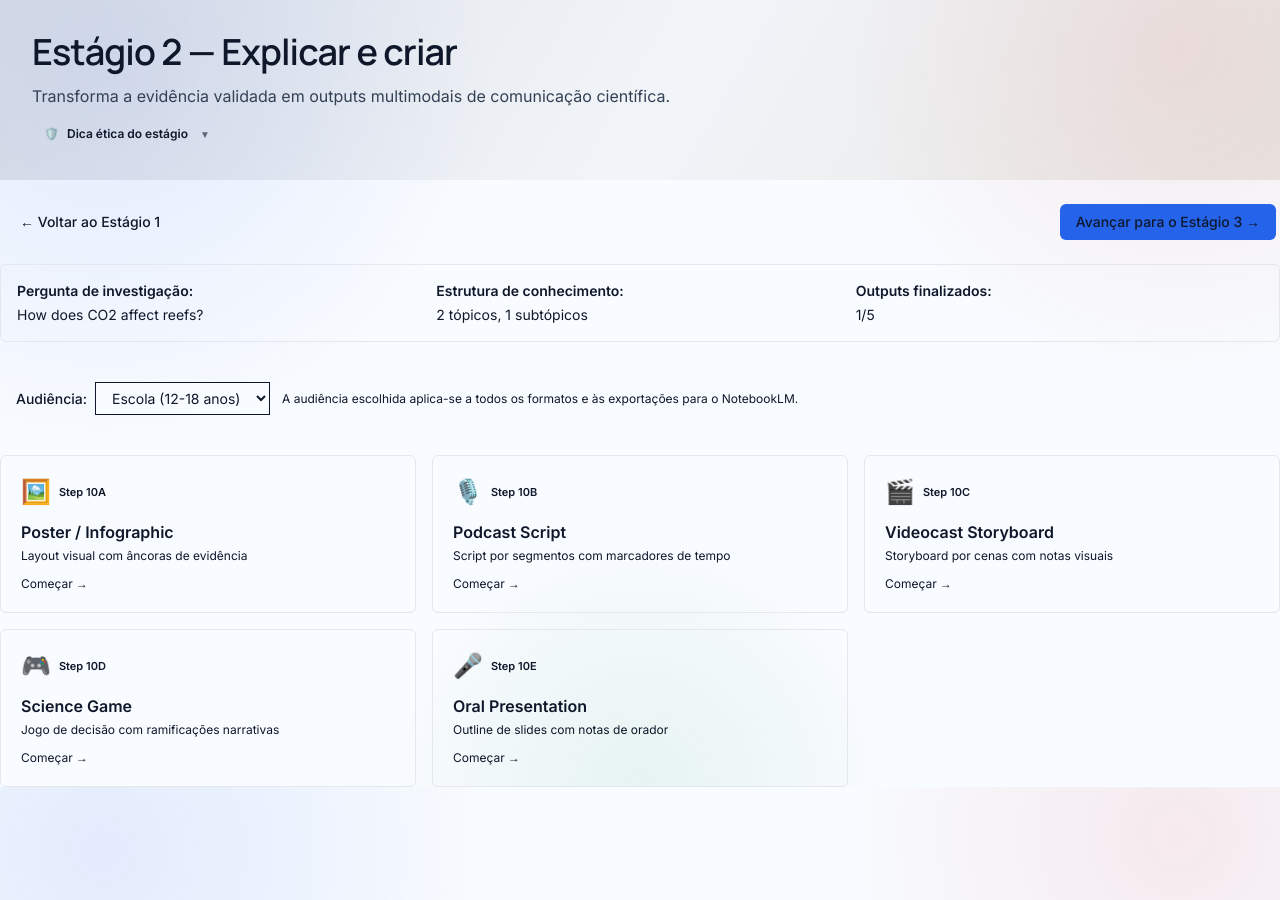
Scenario: Stage 2 output pages: script / where to create / PowerPoint › reports a failed copy instead of failing silently
Click the button "Step 10C" at (969, 532), box left=864, top=455, right=1279, bottom=613
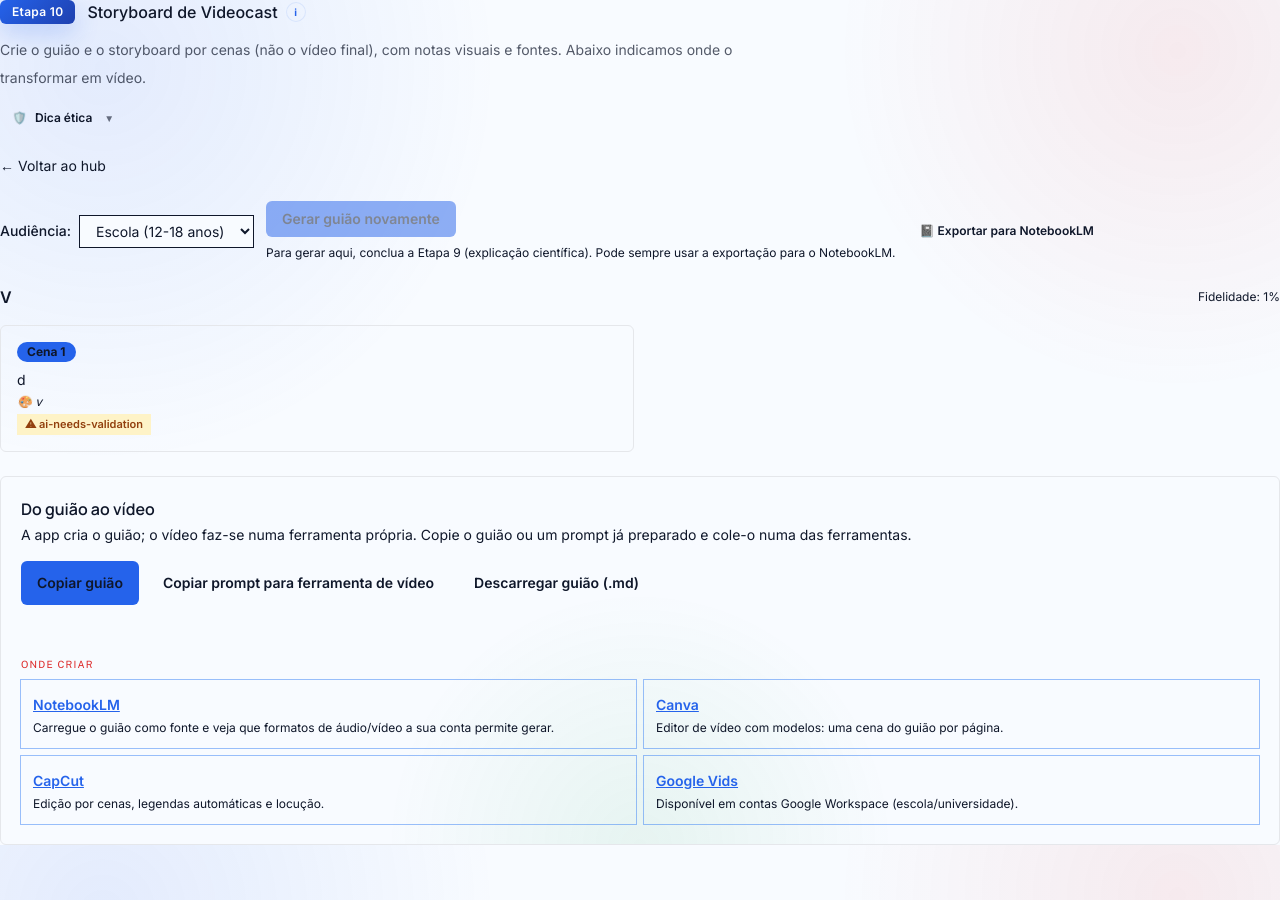
Click the button "Copiar guião" at (80, 582), box left=21, top=560, right=139, bottom=604
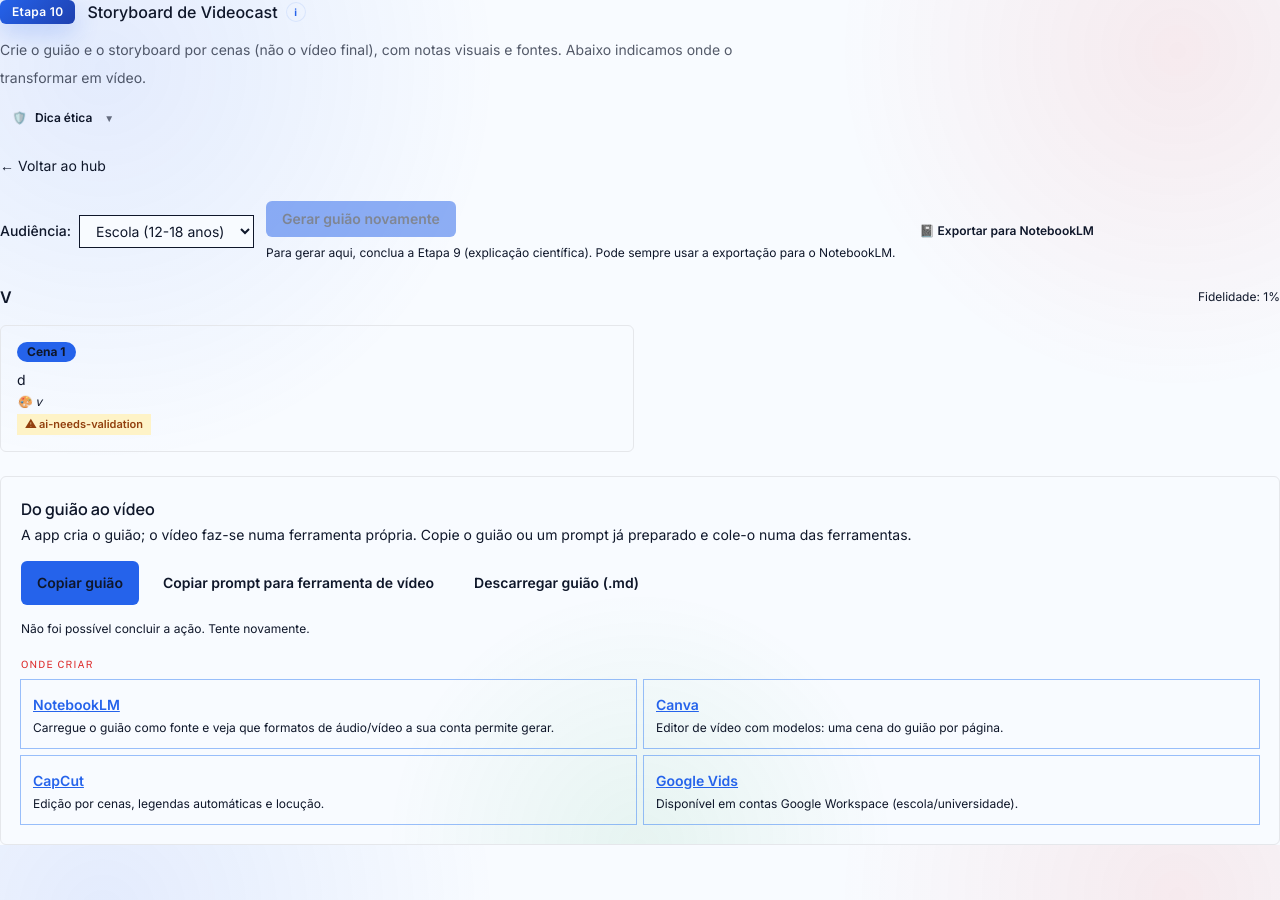
Result: the text "Não foi possível concluir a ação. Tente novamente." is shown at left=21, top=620, right=310, bottom=636
